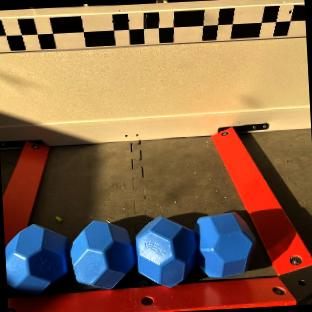Parking-R: (212, 127, 312, 274), (2, 140, 48, 243)
V5_BLUE: (71, 220, 134, 288), (5, 224, 67, 293), (195, 212, 253, 276)
pieces: (4, 209, 255, 297)
